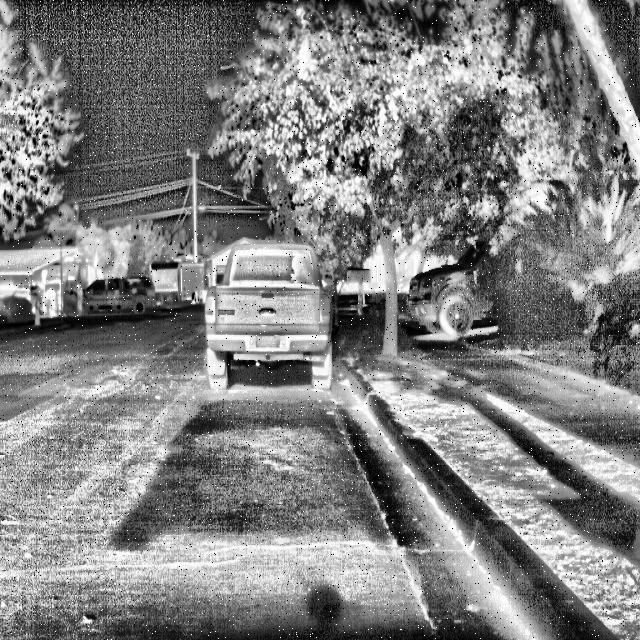car: (185, 225, 355, 406), (80, 264, 156, 322)
